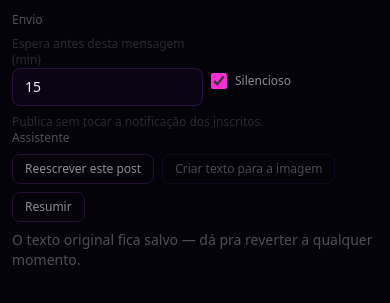
Test: CampaignExtras — botões de assistente › erro do assistente aparece na tela, sem quebrar o texto atual
What coordinates should you click on to do the following:
click the button "Resumir"
I would click on:
 (48, 207)
Its box is [12,192,85,222].
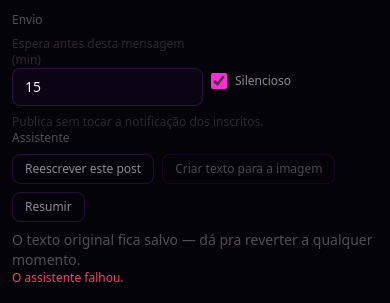
Check: the text "O assistente falhou." is shown, box [12,269,124,286]
